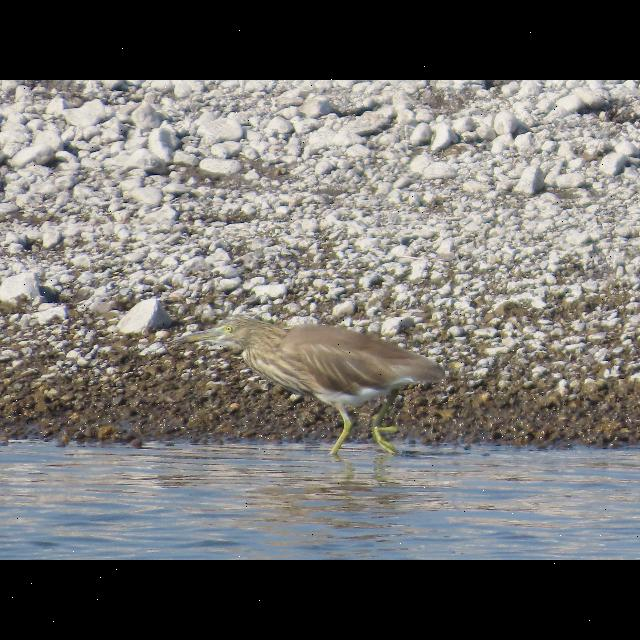heron: (167, 304, 459, 466)
